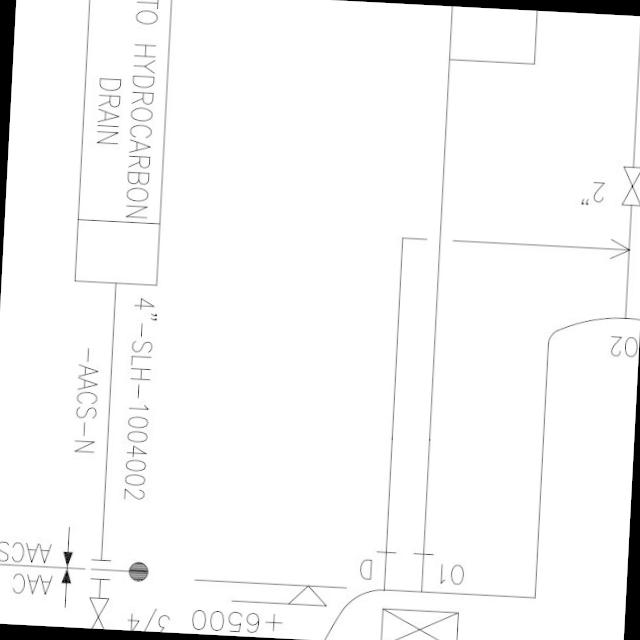GV: (619, 157, 640, 210)
